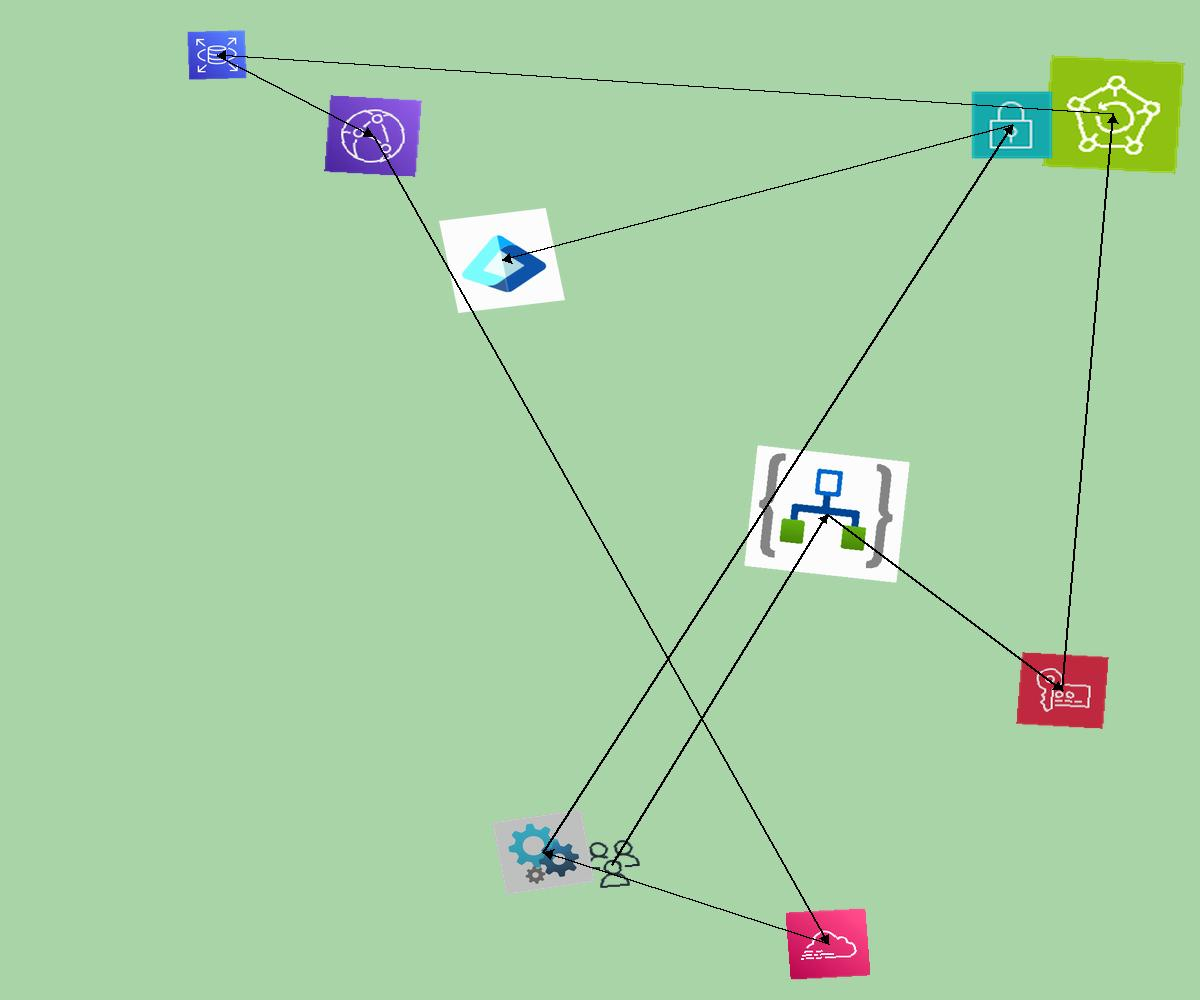AWS-Backup: (1042, 55, 1185, 174)
AWS-CloudFront: (324, 95, 422, 177)
AWS-CloudTrail: (785, 908, 871, 980)
AWS-Key-Management-Service: (1016, 652, 1109, 729)
AWS-Private-subnet: (970, 90, 1054, 160)
AWS-RDS: (187, 30, 247, 80)
AWS-Res_Users: (579, 836, 646, 892)
Azure_api: (492, 809, 595, 895)
Azure_integration-204-Logic-Apps: (744, 445, 910, 583)
Azure_microsoft_entra: (439, 208, 565, 313)
